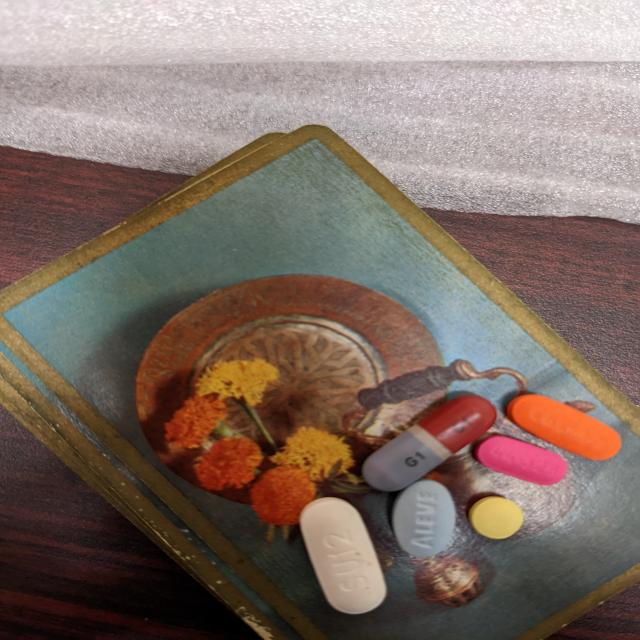non-organic waste: (360, 394, 499, 492), (297, 496, 389, 616), (504, 393, 622, 461), (389, 478, 459, 558), (472, 432, 568, 486), (465, 494, 525, 541)
